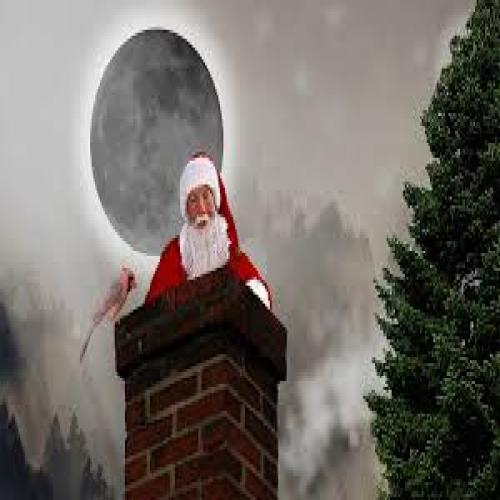Santa: (144, 149, 273, 308)
